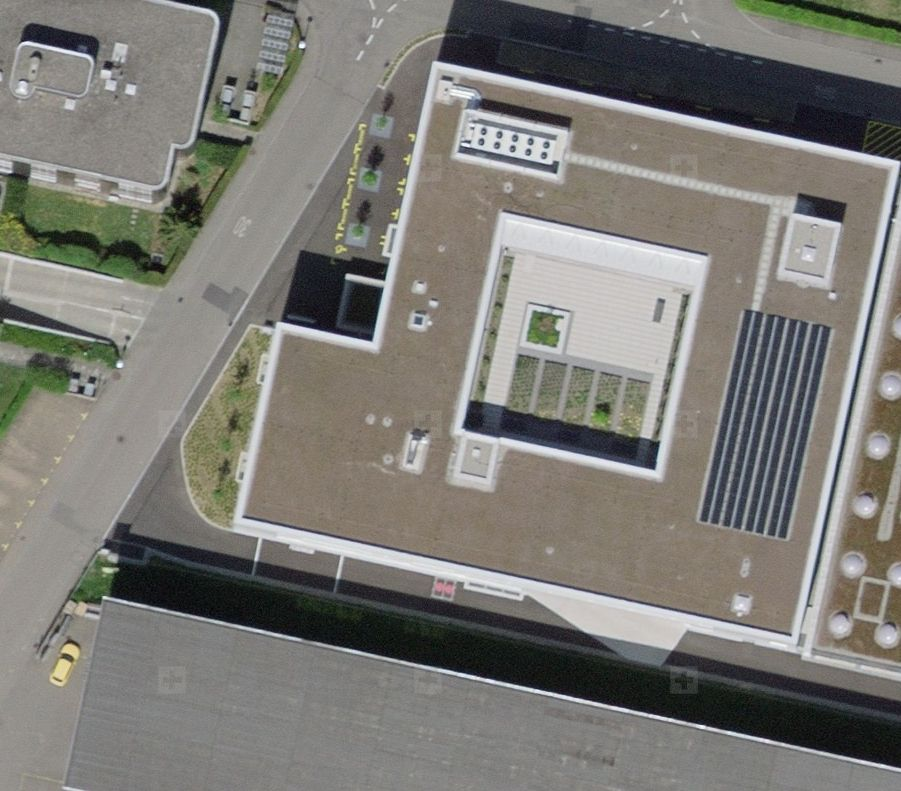solar: (696, 308, 834, 541)
